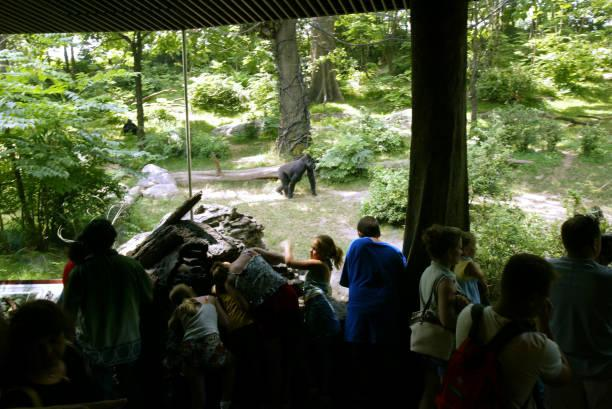gorille_Autres: (261, 142, 340, 202)
